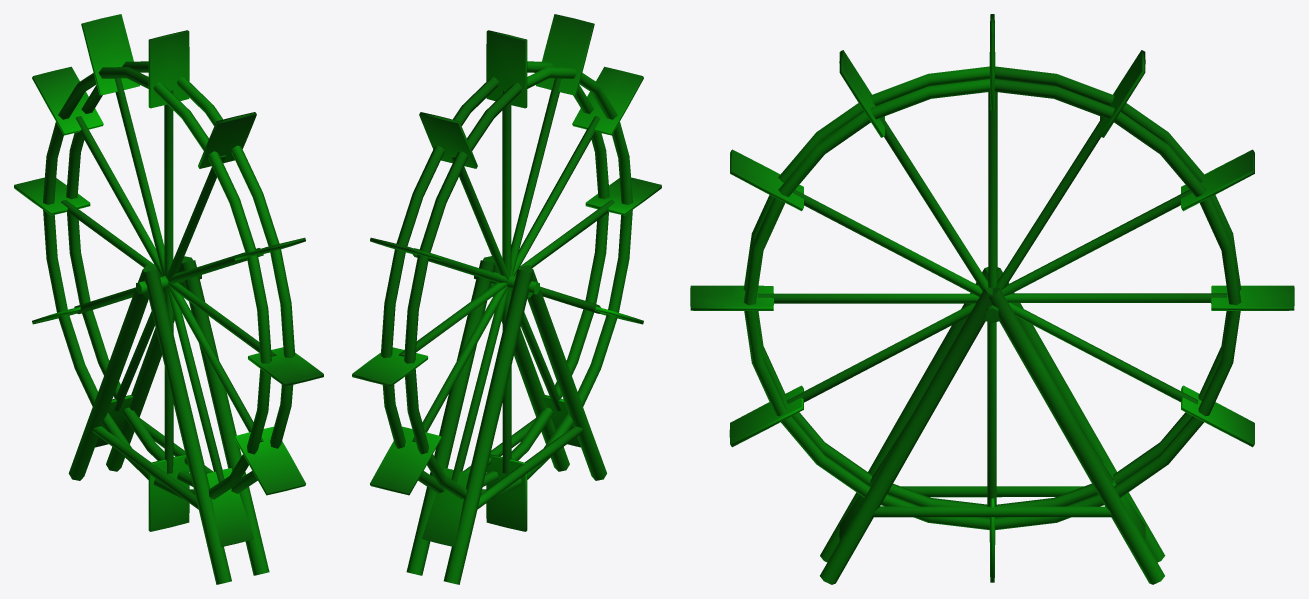
The model's file is tide_wheel.glb.
3 renders of one model, left to right at view 1: azimuth 30°, elevation 25°; view 2: azimuth 150°, elevation 25°; view 3: azimuth 270°, elevation 25°, orthographic. The views are drawn at different scales.
Visible parts, largest first — view 1: tide_wheel; view 2: tide_wheel; view 3: tide_wheel.
Part boxes in pixels (x1,y1,x2,y2): tide_wheel: [14, 14, 323, 584]; tide_wheel: [352, 14, 661, 584]; tide_wheel: [690, 14, 1294, 584].
Size of what is drawn, in the model's own units: 0.52 by 4.05 by 4.04.
